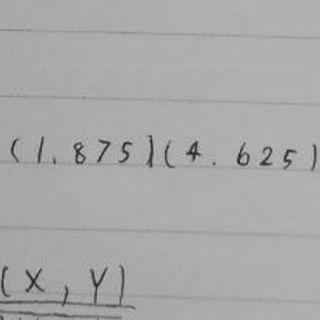.: (51, 154, 58, 165)
1: (35, 133, 46, 164)
2: (257, 145, 274, 166)
4: (185, 139, 203, 164)
5: (117, 140, 134, 165), (282, 147, 298, 171)
6: (235, 140, 251, 168)
7: (95, 137, 112, 164)
8: (71, 140, 87, 165)
